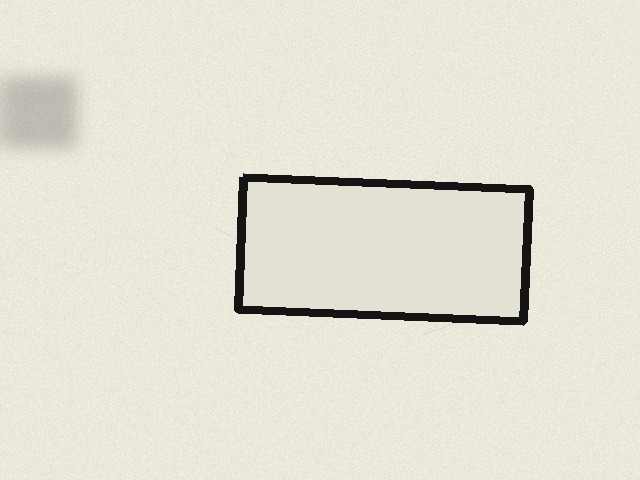parking_area: (238, 177, 529, 321)
